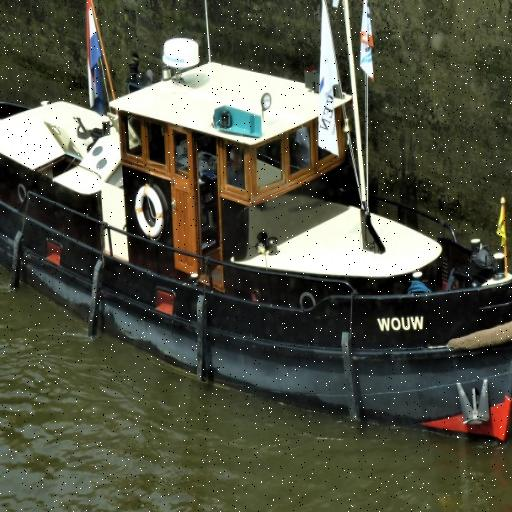tugboat: (1, 1, 512, 453)
